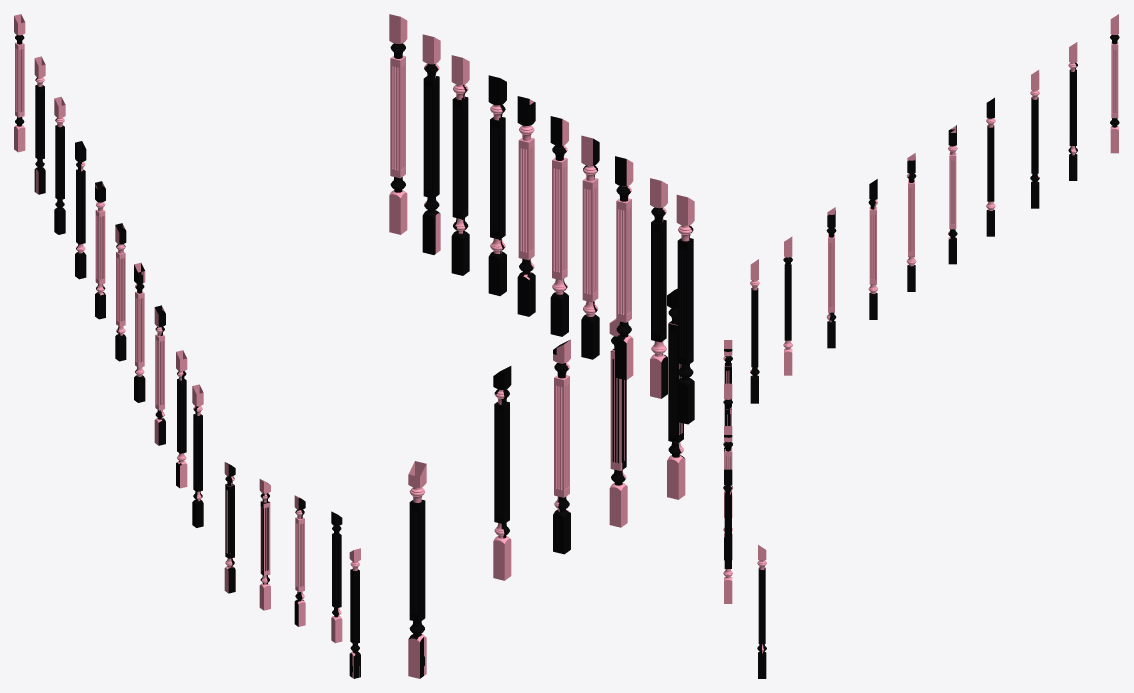
The picture shows the model from 3 angles, left to right: view 1: azimuth 30°, elevation 25°; view 2: azimuth 150°, elevation 25°; view 3: azimuth 270°, elevation 25°; orthographic projection. The views are drawn at different scales.
Visible parts, largest first — view 1: Box1279; view 2: Box1279; view 3: Box1279.
Boxes of the visible parts, x1,y1,x2,y2 form: Box1279: (14, 14, 360, 678); Box1279: (389, 14, 694, 678); Box1279: (723, 14, 1119, 678).
Size of the model in its own units: 1225 by 3937 by 2432.
